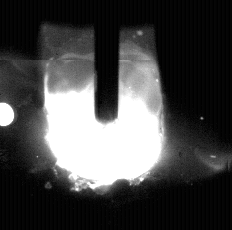arame: (95, 0, 121, 125)
poca: (44, 0, 165, 230)
